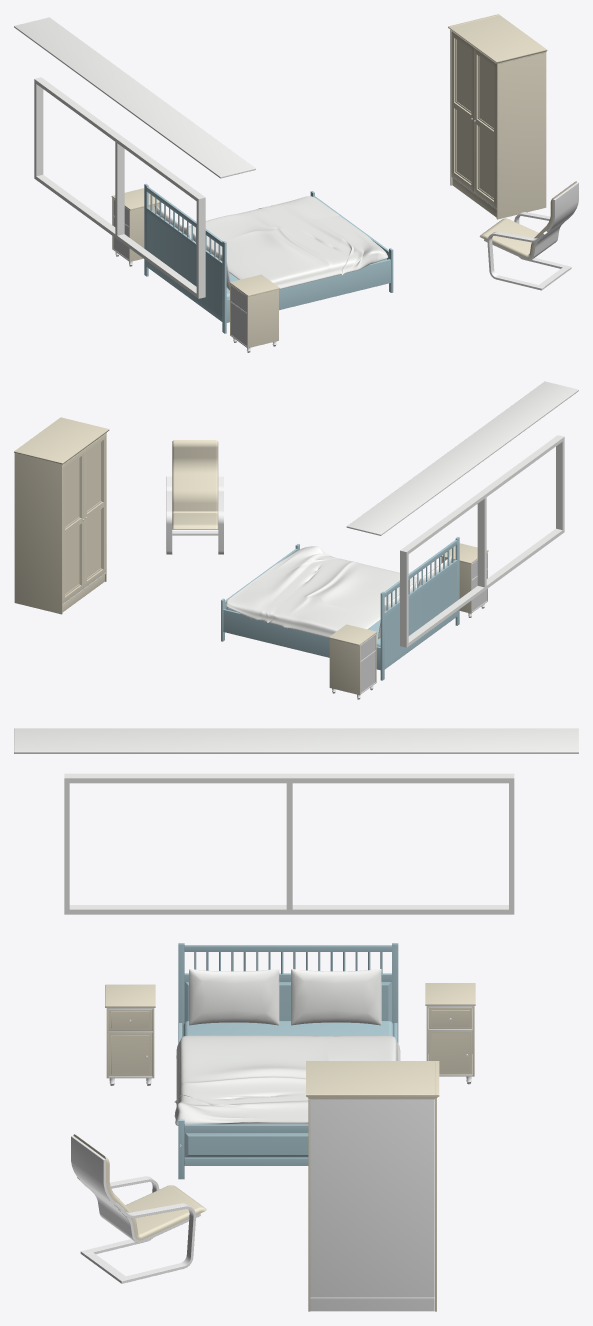
File: xiaowoshitaozhuang.glb
3 views of the same model, one above another, from view 1: azimuth 30°, elevation 25°; view 2: azimuth 150°, elevation 25°; view 3: azimuth 270°, elevation 25° (orthographic). The views are drawn at different scales.
Parts seen in each view (by area): view 1: Cube (×6), fensterbret, Rahmen, 椅子, bed head, bed sides, side (×2), top (×2), legs (×2), fensterbret.1; view 2: Cube (×6), fensterbret, 椅子, Rahmen, bed head, bed sides, side (×2), top (×2), legs (×2), fensterbret.1; view 3: Cube (×3), fensterbret, Rahmen, pillow (×2), top (×6), 椅子, bed end, mattress, legs, bed head, fensterbret.1.
Boxes of the visible parts, box(x1,y1,x2,y2) form: Cube (×6): box(185, 14, 547, 345); fensterbret: box(14, 17, 255, 178); Rahmen: box(34, 77, 205, 298); 椅子: box(479, 181, 578, 290); bed head: box(146, 207, 222, 321); bed sides: box(226, 259, 390, 322); side (×2): box(129, 203, 278, 348); top (×2): box(111, 188, 279, 296); legs (×2): box(146, 187, 226, 333); fensterbret.1: box(115, 140, 124, 235); Cube (×6): box(14, 417, 419, 692); fensterbret: box(346, 381, 578, 535); 椅子: box(166, 440, 223, 554); Rahmen: box(400, 435, 564, 647); bed head: box(384, 559, 457, 669); bed sides: box(223, 609, 380, 670); side (×2): box(329, 557, 471, 695); top (×2): box(328, 543, 488, 645); legs (×2): box(380, 540, 457, 680); fensterbret.1: box(477, 496, 486, 587); Cube (×3): box(174, 1035, 439, 1311); fensterbret: box(14, 728, 578, 753); Rahmen: box(64, 773, 514, 914); pillow (×2): box(189, 969, 381, 1025); top (×6): box(105, 983, 475, 1076); 椅子: box(71, 1134, 206, 1283); bed end: box(184, 1124, 308, 1165); mattress: box(183, 1021, 393, 1036); legs: box(184, 945, 391, 951); bed head: box(184, 973, 391, 1022); fensterbret.1: box(286, 781, 292, 910).
Bounding box in the file's own units: 1.31 × 0.6209 × 1.07.
